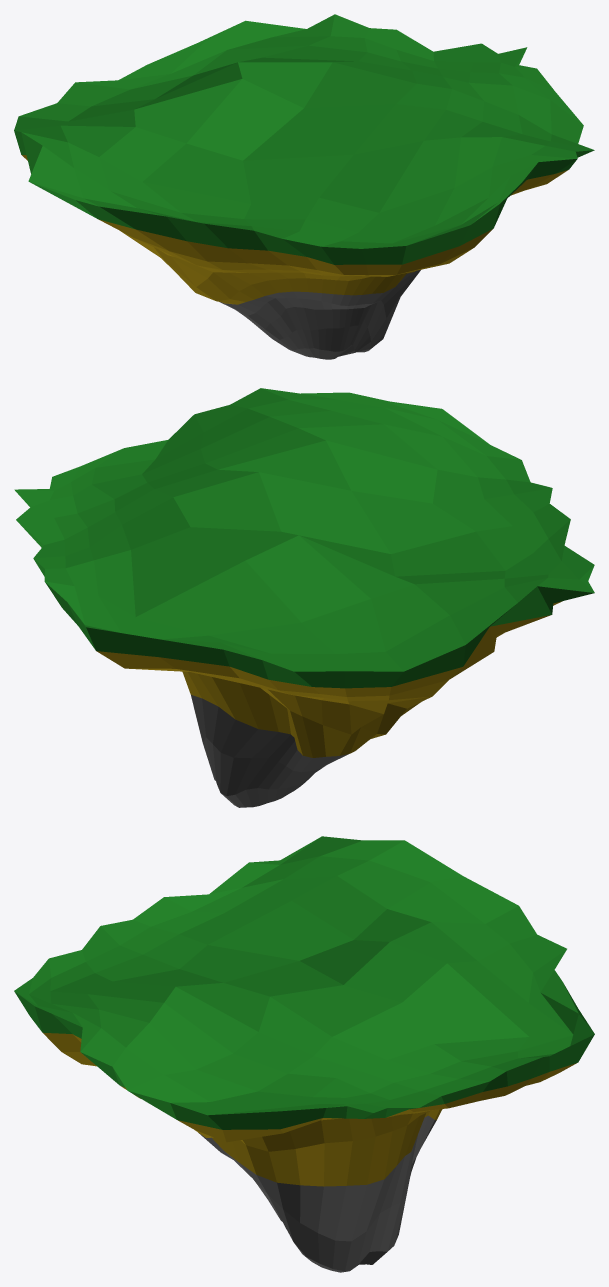
File: Platform_ground_6.fbx
3 renders of one model, top to bottom at view 1: azimuth 30°, elevation 25°; view 2: azimuth 150°, elevation 25°; view 3: azimuth 270°, elevation 25°, orthographic. The views are drawn at different scales.
Visible parts, largest first — view 1: Sphere; view 2: Sphere; view 3: Sphere.
Boxes of the visible parts, x1=… form: Sphere: x1=14, y1=14, x2=594, y2=359; Sphere: x1=14, y1=388, x2=594, y2=807; Sphere: x1=14, y1=836, x2=594, y2=1272.
Size of the model in its own units: 373 by 189 by 346.
